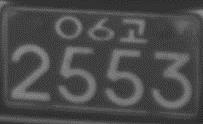0: (54, 14, 82, 40)
2: (10, 43, 50, 102)
3: (150, 51, 193, 110)
5: (57, 44, 98, 105), (103, 48, 144, 107)
6: (86, 16, 116, 42)
고: (119, 17, 148, 43)
